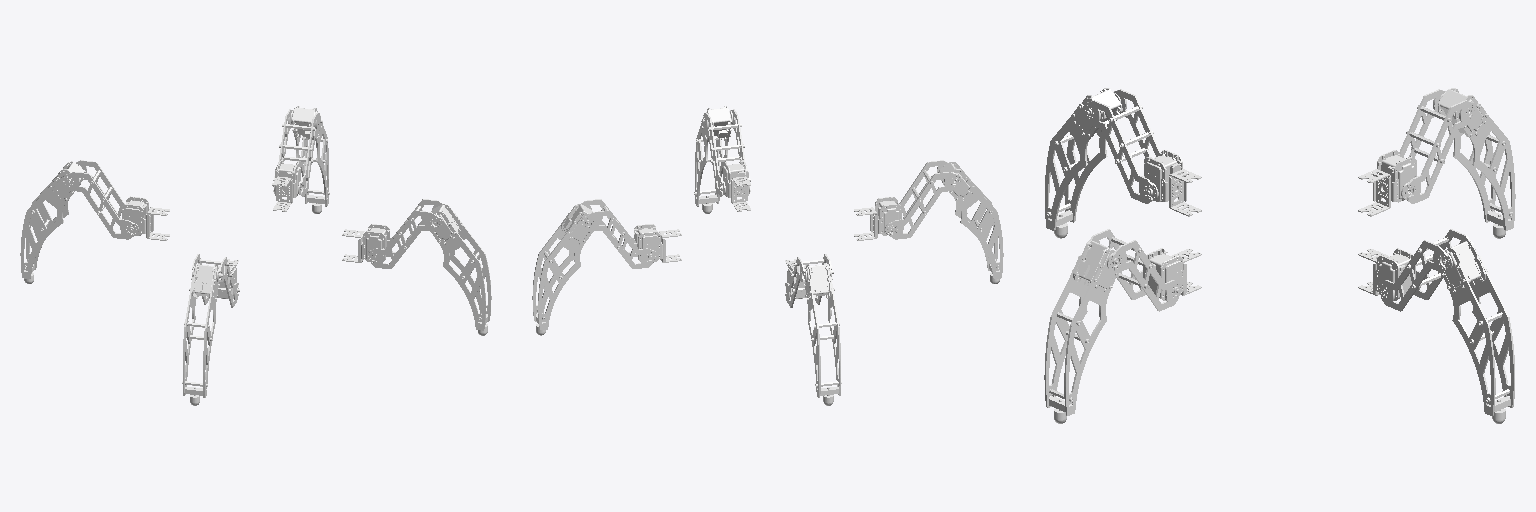
--- Facts derived from the render (not from the file) ---
Views: 3 orthographic renders of the robot side by side, from view 1: azimuth 30°, elevation 25°; view 2: azimuth 150°, elevation 25°; view 3: azimuth 270°, elevation 25°.
Model arachne with 19 links and 18 joints (12 revolute, 6 fixed), rooted at base, posed every joint at zero.
Visible links, largest first — view 1: leg4_tibia, leg2_tibia, leg3_tibia, leg2_femur, leg1_tibia, leg4_femur, leg2_shoulder, leg1_shoulder, leg4_shoulder, leg1_femur, leg3_femur; view 2: leg1_tibia, leg3_tibia, leg2_tibia, leg3_femur, leg4_tibia, leg1_femur, leg3_shoulder, leg4_shoulder, leg1_shoulder, leg4_femur, leg2_femur; view 3: leg4_tibia, leg1_tibia, leg2_tibia, leg3_tibia, leg2_femur, leg3_femur, leg1_femur, leg4_femur, leg3_shoulder, leg2_shoulder, leg4_shoulder, leg1_shoulder.
Link boxes in pixels (x1,y1,x2,y2): leg4_tibia: (431,204,491,335); leg2_tibia: (20,161,85,283); leg3_tibia: (182,264,222,405); leg2_femur: (65,160,133,239); leg1_tibia: (291,106,329,213); leg4_femur: (371,199,442,268); leg2_shoulder: (122,196,169,240); leg1_shoulder: (272,160,301,211); leg4_shoulder: (342,224,389,262); leg1_femur: (273,109,319,196); leg3_femur: (192,254,238,307); leg1_tibia: (532,204,592,335); leg3_tibia: (938,162,1003,283); leg2_tibia: (803,264,841,405); leg3_femur: (890,160,958,239); leg4_tibia: (694,106,732,213); leg1_femur: (581,199,652,268); leg3_shoulder: (854,197,901,240); leg4_shoulder: (719,160,750,211); leg1_shoulder: (634,224,681,262); leg4_femur: (704,109,750,196); leg2_femur: (785,254,831,307); leg4_tibia: (1044,240,1119,423); leg1_tibia: (1441,240,1514,423); leg2_tibia: (1438,88,1515,238); leg3_tibia: (1045,88,1122,238); leg2_femur: (1399,89,1473,203); leg3_femur: (1086,89,1160,203); leg1_femur: (1381,229,1473,311); leg4_femur: (1086,229,1178,311); leg3_shoulder: (1144,150,1201,216); leg2_shoulder: (1358,150,1416,216); leg4_shoulder: (1143,248,1201,300); leg1_shoulder: (1358,248,1415,300).
Bounding box of the posed robot: 0.5489 × 0.5489 × 0.2091 m (x, y, z).
12 mesh visuals loaded from 5 distinct referenced files (3 binary STL); not drawn: 2 (reference not matched to a file when rendering).

The robot description file, URDF, robot "arachne":
<?xml version="1.0"?>

<robot name="arachne">

  <!-- Color of materials -->
  <material name="yellow">
    <color rgba="1 1 0 1"/>
  </material>
  <material name="blue">
    <color rgba="0 0 1 1"/>
  </material>
  <material name="red">
    <color rgba="1 0 0 1"/>
  </material>
  <material name="white">
    <color rgba="1 1 1 1"/>
  </material>
   <material name="grey">
    <color rgba="0.4 0.4 0.4 1"/>
  </material>


  <!-- The base is declared -->
  <link name="base">
    <visual>
      <geometry>
        <mesh filename="package://arachne-simulation/urdf/meshes/Base.stl" scale="0.001 0.001 0.001"/>
      </geometry>
      <origin rpy="0 0 0" xyz="0 0 0.2"/>
      <material name="white"/>
    </visual>
    <collision>
      <origin rpy="0 0 0" xyz="0 0 0.2"/>
      <geometry>
        <box size="0.2 0.2 0.04575"/>
      </geometry>
    </collision>
    <gazebo reference="base">
      <material>Gazebo/White</material>
    </gazebo>
  </link>

  <!-- Fixed joint to add dummy inertia link -->
  <joint name="base_to_base_inertia" type="fixed">
      <parent link="base"/>
      <child link="base_inertia"/>
      <origin rpy="0 0 0" xyz="0 0 0"/>
  </joint>

  <!-- Dummy inertia link, because KDL cannot have inertia on the base link -->
  <link name="base_inertia">
      <inertial>
          <origin rpy="0 0 0" xyz="0 0 0"/>
          <mass value="1.8"/>
          <inertia ixx="0.217391101503" ixy="-0.00132873239126" ixz="-0.00228200226173" iyy="0.639432546734" iyz="-0.00138078263145" izz="0.62414077654"/>
      </inertial>
  </link>


  <!-- First motors are declared -->
  <joint name="leg1_motor1" type="revolute">
    <parent link="base"/>
    <child link="leg1_shoulder"/>
    <origin xyz="0.1 0.1 0.2"/>
    <axis xyz="0 0 1"/>
    <limit effort="300" velocity="0.1" lower="-1.5708" upper="1.5708"/>
    <dynamics damping="15" friction="3"/>
    <sensor name="force_torque" type="force_torque">
      <update_rate>30</update_rate>
    </sensor>
  </joint>

  <joint name="leg2_motor1" type="revolute">
    <parent link="base"/>
    <child link="leg2_shoulder"/>
    <origin xyz="-0.1 0.1 0.2"/>
    <axis xyz="0 0 1"/>
    <limit effort="300" velocity="0.1" lower="-1.5708" upper="1.5708"/>
    <dynamics damping="15" friction="3"/>
    <sensor name="force_torque" type="force_torque">
      <update_rate>30</update_rate>
    </sensor>
  </joint>

  <joint name="leg3_motor1" type="revolute">
    <parent link="base"/>
    <child link="leg3_shoulder"/>
    <origin xyz="-0.1 -0.1 0.2"/>
    <axis xyz="0 0 1"/>
    <limit effort="300" velocity="0.1" lower="-1.5708" upper="1.5708"/>
    <dynamics damping="15" friction="3"/>
    <sensor name="force_torque" type="force_torque">
      <update_rate>30</update_rate>
    </sensor>
  </joint>

  <joint name="leg4_motor1" type="revolute">
    <parent link="base"/>
    <child link="leg4_shoulder"/>
    <origin xyz="0.1 -0.1 0.2"/>
    <axis xyz="0 0 1"/>
    <limit effort="300" velocity="0.1" lower="-1.5708" upper="1.5708"/>
    <dynamics damping="15" friction="3"/>
    <sensor name="force_torque" type="force_torque">
      <update_rate>30</update_rate>
    </sensor>
  </joint>


  <!-- Shoulders are declared -->
  <link name="leg1_shoulder">
    <visual>
      <geometry>
        <mesh filename="package://arachne-simulation/urdf/meshes/Shoulder.stl" scale="0.001 0.001 0.001"/>
      </geometry>
      <origin rpy="0 0 -0.785398" xyz="0 0 0"/>
      <material name="white"/>
    </visual>
    <collision>
      <origin rpy="1.5708 0 -0.785398" xyz="0 0 0"/>
      <geometry>
        <cylinder length="0.225" radius="0.023"/>
      </geometry>
    </collision>
    <inertial>
      <origin rpy="0 0 0" xyz="0 0 -0.095924"/>
      <mass value="0.1118" />
      <inertia ixx="0.001947133" ixy="0" ixz="0" iyy="0.001408573" iyz="0" izz="0.000804606" />
    </inertial>
  </link>
  <gazebo reference="leg1_shoulder">
    <material>Gazebo/White</material>
  </gazebo>

  <link name="leg2_shoulder">
    <visual>
      <geometry>
        <mesh filename="package://arachne-simulation/urdf/meshes/Shoulder.stl" scale="0.001 0.001 0.001"/>
      </geometry>
      <origin rpy="0 0 0.785398" xyz="0 0 0"/>
      <material name="white"/>
    </visual>
    <collision>
      <origin rpy="1.5708 0 0.785398" xyz="0 0 0"/>
      <geometry>
        <cylinder length="0.225" radius="0.023"/>
      </geometry>
    </collision>
    <inertial>
      <origin rpy="0 0 0" xyz="0 0 -0.095924"/>
      <mass value="0.1118" />
      <inertia ixx="0.001947133" ixy="0" ixz="0" iyy="0.001408573" iyz="0" izz="0.000804606" />
    </inertial>
  </link>
  <gazebo reference="leg2_shoulder">
    <material>Gazebo/White</material>
  </gazebo>

  <link name="leg3_shoulder">
    <visual>
      <geometry>
        <mesh filename="package://arachne-simulation/urdf/meshes/Shoulder.stl" scale="0.001 0.001 0.001"/>
      </geometry>
      <origin rpy="0 0 2.35619" xyz="0 0 0"/>
      <material name="white"/>
    </visual>
    <collision>
      <origin rpy="1.5708 0 2.35619" xyz="0 0 0"/>
      <geometry>
        <cylinder length="0.225" radius="0.023"/>
      </geometry>
    </collision>
    <inertial>
      <origin rpy="0 0 0" xyz="0 0 -0.095924"/>
      <mass value="0.1118" />
      <inertia ixx="0.001947133" ixy="0" ixz="0" iyy="0.001408573" iyz="0" izz="0.000804606" />
    </inertial>
  </link>
  <gazebo reference="leg3_shoulder">
    <material>Gazebo/White</material>
  </gazebo>

  <link name="leg4_shoulder">
    <visual>
      <geometry>
        <mesh filename="package://arachne-simulation/urdf/meshes/Shoulder.stl" scale="0.001 0.001 0.001"/>
      </geometry>
      <origin rpy="0 0 -2.35619" xyz="0 0 0"/>
      <material name="white"/>
    </visual>
    <collision>
      <origin rpy="1.5708 0 -2.35619" xyz="0 0 0"/>
      <geometry>
        <cylinder length="0.225" radius="0.023"/>
      </geometry>
    </collision>
    <inertial>
      <origin rpy="0 0 0" xyz="0 0 -0.095924"/>
      <mass value="0.1118" />
      <inertia ixx="0.001947133" ixy="0" ixz="0" iyy="0.001408573" iyz="0" izz="0.000804606" />
    </inertial>
  </link>
  <gazebo reference="leg4_shoulder">
    <material>Gazebo/White</material>
  </gazebo>


  <!-- Second motors are declared -->
  <joint name="leg1_motor2" type="revolute">
    <parent link="leg1_shoulder"/>
    <child link="leg1_femur"/>
    <origin xyz="0.036062 0.036062 -0.00415" rpy="0 0 -0.785398"/>
    <axis xyz="1 0 0"/>
    <limit effort="300" velocity="0.1" lower="-1.5708" upper="1.5708"/>
    <dynamics damping="15" friction="3"/>
    <sensor name="force_torque" type="force_torque">
      <update_rate>30</update_rate>
    </sensor>
  </joint>

  <joint name="leg2_motor2" type="revolute">
    <parent link="leg2_shoulder"/>
    <child link="leg2_femur"/>
    <origin xyz="-0.036062 0.036062 -0.00415" rpy="0 0 0.785398"/>
    <axis xyz="1 0 0"/>
    <limit effort="300" velocity="0.1" lower="-1.5708" upper="1.5708"/>
    <dynamics damping="15" friction="3"/>
    <sensor name="force_torque" type="force_torque">
      <update_rate>30</update_rate>
    </sensor>
  </joint>

  <joint name="leg3_motor2" type="revolute">
    <parent link="leg3_shoulder"/>
    <child link="leg3_femur"/>
    <origin xyz="-0.036062 -0.036062 -0.00415" rpy="0 0 2.35619"/>
    <axis xyz="1 0 0"/>
    <limit effort="300" velocity="0.1" lower="-1.5708" upper="1.5708"/>
    <dynamics damping="15" friction="3"/>
    <sensor name="force_torque" type="force_torque">
      <update_rate>30</update_rate>
    </sensor>
  </joint>

  <joint name="leg4_motor2" type="revolute">
    <parent link="leg4_shoulder"/>
    <child link="leg4_femur"/>
    <origin xyz="0.036062 -0.036062 -0.00415" rpy="0 0 -2.35619"/>
    <axis xyz="1 0 0"/>
    <limit effort="300" velocity="0.1" lower="-1.5708" upper="1.5708"/>
    <dynamics damping="15" friction="3"/>
    <sensor name="force_torque" type="force_torque">
      <update_rate>30</update_rate>
    </sensor>
  </joint>


  <!-- Femurs are declared -->
  <link name="leg1_femur">
    <visual>
      <geometry>
        <mesh filename="package://arachne-simulation/urdf/meshes/Femur.stl" scale="0.001 0.001 0.001"/>
      </geometry>
      <origin rpy="0 0 0" xyz="0 0 0"/>
      <material name="white"/>
    </visual>
    <collision>
      <origin rpy="1.5708 0 0" xyz="0 0 0"/>
      <geometry>
        <cylinder length="0.225" radius="0.023"/>
      </geometry>
    </collision>
    <inertial>
      <origin rpy="0 0 0" xyz="0 0 -0.095924"/>
      <mass value="0.1118" />
      <inertia ixx="0.001947133" ixy="0" ixz="0" iyy="0.001408573" iyz="0" izz="0.000804606" />
    </inertial>
  </link>
  <gazebo reference="leg1_femur">
    <material>Gazebo/White</material>
  </gazebo>

  <link name="leg2_femur">
    <visual>
      <geometry>
        <mesh filename="package://arachne-simulation/urdf/meshes/Femur.stl" scale="0.001 0.001 0.001"/>
      </geometry>
      <origin rpy="0 0 0" xyz="0 0 0"/>
      <material name="white"/>
    </visual>
    <collision>
      <origin rpy="1.5708 0 0" xyz="0 0 0"/>
      <geometry>
        <cylinder length="0.225" radius="0.023"/>
      </geometry>
    </collision>
    <inertial>
      <origin rpy="0 0 0" xyz="0 0 -0.095924"/>
      <mass value="0.1118" />
      <inertia ixx="0.001947133" ixy="0" ixz="0" iyy="0.001408573" iyz="0" izz="0.000804606" />
    </inertial>
  </link>
  <gazebo reference="leg2_femur">
    <material>Gazebo/White</material>
  </gazebo>

  <link name="leg3_femur">
    <visual>
      <geometry>
        <mesh filename="package://arachne-simulation/urdf/meshes/Femur.stl" scale="0.001 0.001 0.001"/>
      </geometry>
      <origin rpy="0 0 0" xyz="0 0 0"/>
      <material name="white"/>
    </visual>
    <collision>
      <origin rpy="1.5708 0 0" xyz="0 0 0"/>
      <geometry>
        <cylinder length="0.225" radius="0.023"/>
      </geometry>
    </collision>
    <inertial>
      <origin rpy="0 0 0" xyz="0 0 -0.095924"/>
      <mass value="0.1118" />
      <inertia ixx="0.001947133" ixy="0" ixz="0" iyy="0.001408573" iyz="0" izz="0.000804606" />
    </inertial>
  </link>
  <gazebo reference="leg3_femur">
    <material>Gazebo/White</material>
  </gazebo>

  <link name="leg4_femur">
    <visual>
      <geometry>
        <mesh filename="package://arachne-simulation/urdf/meshes/Femur.stl" scale="0.001 0.001 0.001"/>
      </geometry>
      <origin rpy="0 0 0" xyz="0 0 0"/>
      <material name="white"/>
    </visual>
    <collision>
      <origin rpy="1.5708 0 0" xyz="0 0 0"/>
      <geometry>
        <cylinder length="0.225" radius="0.023"/>
      </geometry>
    </collision>
    <inertial>
      <origin rpy="0 0 0" xyz="0 0 -0.095924"/>
      <mass value="0.1118" />
      <inertia ixx="0.001947133" ixy="0" ixz="0" iyy="0.001408573" iyz="0" izz="0.000804606" />
    </inertial>
  </link>
  <gazebo reference="leg4_femur">
    <material>Gazebo/White</material>
  </gazebo>


  <!-- Third motors are declared -->
  <joint name="leg1_motor3" type="revolute">
    <parent link="leg1_femur"/>
    <child link="leg1_tibia"/>
    <origin xyz="0 0.1 0.07"/>
    <axis xyz="1 0 0"/>
    <limit effort="300" velocity="0.1" lower="-0.785398" upper="2.35619"/>
    <dynamics damping="15" friction="3"/>
    <sensor name="force_torque" type="force_torque">
      <update_rate>30</update_rate>
    </sensor>
  </joint>

  <joint name="leg2_motor3" type="revolute">
    <parent link="leg2_femur"/>
    <child link="leg2_tibia"/>
    <origin xyz="0 0.1 0.07"/>
    <axis xyz="1 0 0"/>
    <limit effort="300" velocity="0.1" lower="-0.785398" upper="2.35619"/>
    <dynamics damping="15" friction="3"/>
    <sensor name="force_torque" type="force_torque">
      <update_rate>30</update_rate>
    </sensor>
  </joint>

  <joint name="leg3_motor3" type="revolute">
    <parent link="leg3_femur"/>
    <child link="leg3_tibia"/>
    <origin xyz="0 0.1 0.07"/>
    <axis xyz="1 0 0"/>
    <limit effort="300" velocity="0.1" lower="-0.785398" upper="2.35619"/>
    <dynamics damping="15" friction="3"/>
    <sensor name="force_torque" type="force_torque">
      <update_rate>30</update_rate>
    </sensor>
  </joint>

  <joint name="leg4_motor3" type="revolute">
    <parent link="leg4_femur"/>
    <child link="leg4_tibia"/>
    <origin xyz="0 0.1 0.07"/>
    <axis xyz="1 0 0"/>
    <limit effort="300" velocity="0.1" lower="-0.785398" upper="2.35619"/>
    <dynamics damping="15" friction="3"/>
    <sensor name="force_torque" type="force_torque">
      <update_rate>30</update_rate>
    </sensor>
  </joint>


  <!-- Tibias are declared -->
  <link name="leg1_tibia">
    <visual>
      <geometry>
        <mesh filename="package://arachne-simulation/urdf/meshes/Tibia.stl" scale="0.001 0.001 0.001"/>
      </geometry>
      <origin rpy="0 0 0" xyz="0 0 0"/>
      <material name="white"/>
    </visual>
    <collision>
      <origin rpy="0.610865 0 0" xyz="0 0 0"/>
      <geometry>
        <cylinder length="0.2" radius="0.02"/>
      </geometry>
    </collision>
    <inertial>
      <origin rpy="0 0 0" xyz="0 0 -0.095924"/>
      <mass value="0.1118" />
      <inertia ixx="0.001947133" ixy="0" ixz="0" iyy="0.001408573" iyz="0" izz="0.000804606" />
    </inertial>
  </link>
  <gazebo reference="leg1_tibia">
    <material>Gazebo/White</material>
  </gazebo>

  <link name="leg2_tibia">
    <visual>
      <geometry>
        <mesh filename="package://arachne-simulation/urdf/meshes/Tibia.stl" scale="0.001 0.001 0.001"/>
      </geometry>
      <origin rpy="0 0 0" xyz="0 0 0"/>
      <material name="white"/>
    </visual>
    <collision>
      <origin rpy="0.610865 0 0" xyz="0 0 0"/>
      <geometry>
        <cylinder length="0.2" radius="0.02"/>
      </geometry>
    </collision>
    <inertial>
      <origin rpy="0 0 0" xyz="0 0 -0.095924"/>
      <mass value="0.1118" />
      <inertia ixx="0.001947133" ixy="0" ixz="0" iyy="0.001408573" iyz="0" izz="0.000804606" />
    </inertial>
  </link>
  <gazebo reference="leg2_tibia">
    <material>Gazebo/White</material>
  </gazebo>

  <link name="leg3_tibia">
    <visual>
      <geometry>
        <mesh filename="package://arachne-simulation/urdf/meshes/Tibia.stl" scale="0.001 0.001 0.001"/>
      </geometry>
      <origin rpy="0 0 0" xyz="0 0 0"/>
      <material name="white"/>
    </visual>
    <collision>
      <origin rpy="0.610865 0 0" xyz="0 0 0"/>
      <geometry>
        <cylinder length="0.2" radius="0.02"/>
      </geometry>
    </collision>
    <inertial>
      <origin rpy="0 0 0" xyz="0 0 -0.095924"/>
      <mass value="0.1118" />
      <inertia ixx="0.001947133" ixy="0" ixz="0" iyy="0.001408573" iyz="0" izz="0.000804606" />
    </inertial>
  </link>
  <gazebo reference="leg3_tibia">
    <material>Gazebo/White</material>
  </gazebo>

  <link name="leg4_tibia">
    <visual>
      <geometry>
        <mesh filename="package://arachne-simulation/urdf/meshes/Tibia.stl" scale="0.001 0.001 0.001"/>
      </geometry>
      <origin rpy="0 0 0" xyz="0 0 0"/>
      <material name="white"/>
    </visual>
    <collision>
      <origin rpy="0.610865 0 0" xyz="0 0 0"/>
      <geometry>
        <cylinder length="0.2" radius="0.02"/>
      </geometry>
    </collision>
    <inertial>
      <origin rpy="0 0 0" xyz="0 0 -0.095924"/>
      <mass value="0.1118" />
      <inertia ixx="0.001947133" ixy="0" ixz="0" iyy="0.001408573" iyz="0" izz="0.000804606" />
    </inertial>
  </link>
  <gazebo reference="leg4_tibia">
    <material>Gazebo/White</material>
  </gazebo>


  <!-- End-effector joints -->
  <joint name="leg1_fix" type="fixed">
    <parent link="leg1_tibia"/>
    <child link="leg1_end"/>
    <origin xyz="0 0.068869 -0.184069"/>
    <axis xyz="0 0 1"/>
    <limit effort="300" velocity="0.1" lower="-1.57" upper="1.57"/>
  </joint>

  <joint name="leg2_fix" type="fixed">
    <parent link="leg2_tibia"/>
    <child link="leg2_end"/>
    <origin xyz="0 0.068869 -0.184069"/>
    <axis xyz="0 0 1"/>
    <limit effort="300" velocity="0.1" lower="-1.57" upper="1.57"/>
  </joint>

  <joint name="leg3_fix" type="fixed">
    <parent link="leg3_tibia"/>
    <child link="leg3_end"/>
    <origin xyz="0 0.068869 -0.184069"/>
    <axis xyz="0 0 1"/>
    <limit effort="300" velocity="0.1" lower="-1.57" upper="1.57"/>
  </joint>

  <joint name="leg4_fix" type="fixed">
    <parent link="leg4_tibia"/>
    <child link="leg4_end"/>
    <origin xyz="0 0.068869 -0.184069"/>
    <axis xyz="0 0 1"/>
    <limit effort="300" velocity="0.1" lower="-1.57" upper="1.57"/>
  </joint>


  <!-- End-effectors are declared -->
  <link name="leg1_end">
    <visual>
      <geometry>
        <sphere radius="0.0075"/>
      </geometry>
      <origin rpy="0 0 0" xyz="0 0 0"/>
      <material name="grey"/>
    </visual>
    <collision>
      <origin rpy="0 0 0" xyz="0 0 0"/>
      <geometry>
        <sphere radius="0.0075"/>
      </geometry>
      <surface>
        <friction>
          <ode>
            <mu>0.8</mu>
            <mu2>0.8</mu2>
          </ode>
        </friction>
      </surface>
    </collision>
    <inertial>
      <origin rpy="0 0 0" xyz="0 0 0"/>
      <mass value="0.004" />
      <inertia ixx="1.7067e-7" ixy="0" ixz="0" iyy="1.7067e-7" iyz="0" izz="1.7067e-7" />
    </inertial>
  </link>
  <gazebo reference="leg1_end">
    <material>Gazebo/White</material>
  </gazebo>

  <link name="leg2_end">
    <visual>
      <geometry>
        <sphere radius="0.0075"/>
      </geometry>
      <origin rpy="0 0 0" xyz="0 0 0"/>
      <material name="grey"/>
    </visual>
    <collision>
      <origin rpy="0 0 0" xyz="0 0 0"/>
      <geometry>
        <sphere radius="0.0075"/>
      </geometry>
      <surface>
        <friction>
          <ode>
            <mu>0.8</mu>
            <mu2>0.8</mu2>
          </ode>
        </friction>
      </surface>
    </collision>
    <inertial>
      <origin rpy="0 0 0" xyz="0 0 0"/>
      <mass value="0.004" />
      <inertia ixx="1.7067e-7" ixy="0" ixz="0" iyy="1.7067e-7" iyz="0" izz="1.7067e-7" />
    </inertial>
  </link>
  <gazebo reference="leg2_end">
    <material>Gazebo/White</material>
  </gazebo>

  <link name="leg3_end">
    <visual>
      <geometry>
        <sphere radius="0.0075"/>
      </geometry>
      <origin rpy="0 0 0" xyz="0 0 0"/>
      <material name="grey"/>
    </visual>
    <collision>
      <origin rpy="0 0 0" xyz="0 0 0"/>
      <geometry>
        <sphere radius="0.0075"/>
      </geometry>
      <surface>
        <friction>
          <ode>
            <mu>0.8</mu>
            <mu2>0.8</mu2>
          </ode>
        </friction>
      </surface>
    </collision>
    <inertial>
      <origin rpy="0 0 0" xyz="0 0 0"/>
      <mass value="0.004" />
      <inertia ixx="1.7067e-7" ixy="0" ixz="0" iyy="1.7067e-7" iyz="0" izz="1.7067e-7" />
    </inertial>
  </link>
  <gazebo reference="leg3_end">
    <material>Gazebo/White</material>
  </gazebo>

  <link name="leg4_end">
    <visual>
      <geometry>
        <sphere radius="0.0075"/>
      </geometry>
      <origin rpy="0 0 0" xyz="0 0 0"/>
      <material name="grey"/>
    </visual>
    <collision>
      <origin rpy="0 0 0" xyz="0 0 0"/>
      <geometry>
        <sphere radius="0.0075"/>
      </geometry>
      <surface>
        <friction>
          <ode>
            <mu>0.8</mu>
            <mu2>0.8</mu2>
          </ode>
        </friction>
      </surface>
    </collision>
    <inertial>
      <origin rpy="0 0 0" xyz="0 0 0"/>
      <mass value="0.004" />
      <inertia ixx="1.7067e-7" ixy="0" ixz="0" iyy="1.7067e-7" iyz="0" izz="1.7067e-7" />
    </inertial>
  </link>
  <gazebo reference="leg4_end">
    <material>Gazebo/White</material>
  </gazebo>


  <!-- Camera -->
  <link name="camera_link">
    <collision>
      <origin xyz="0 0 0" rpy="0 0 0"/>
      <geometry>
        <box size="0.005 0.04 0.04"/>
      </geometry>
    </collision>

    <visual>
      <origin xyz="0 0 0" rpy="1.5708 0 1.5708"/>
      <geometry>
        <mesh filename="package://arachne-simulation/urdf/meshes/Camera.stl" scale="0.001 0.001 0.001"/>
      </geometry>
      <material name="green"/>
    </visual>

    <inertial>
      <mass value="0.01" />
      <origin xyz="0 0 0" rpy="0 0 0"/>
      <box_inertia m="0.01" x="0.005" y="0.04" z="0.04" />
      <inertia ixx="1e-6" ixy="0" ixz="0" iyy="1e-6" iyz="0" izz="1e-6" />
    </inertial>
  </link>
  <gazebo reference="camera_link">
    <material>Gazebo/Green</material>
  </gazebo>

  <joint name="camera_joint" type="fixed">
    <axis xyz="0 1 0" />
    <origin xyz=".075 0 0.228" rpy="0 0 0"/>
    <parent link="base"/>
    <child link="camera_link"/>
  </joint>

  <gazebo reference="camera_link">
    <sensor type="camera" name="camera1">
      <update_rate>30.0</update_rate>
      <camera name="head">
        <horizontal_fov>1.3962634</horizontal_fov>
        <image>
          <width>800</width>
          <height>800</height>
          <format>R8G8B8</format>
        </image>
        <clip>
          <near>0.02</near>
          <far>300</far>
        </clip>
        <noise>
          <type>gaussian</type>
          <!-- Noise is sampled independently per pixel on each frame.  
               That pixel's noise value is added to each of its color
               channels, which at that point lie in the range [0,1]. -->
          <mean>0.0</mean>
          <stddev>0.007</stddev>
        </noise>
      </camera>
      <plugin name="camera_controller" filename="libgazebo_ros_camera.so">
        <alwaysOn>true</alwaysOn>
        <updateRate>0.0</updateRate>
        <cameraName>charly/camera1</cameraName>
        <imageTopicName>image_raw</imageTopicName>
        <cameraInfoTopicName>camera_info</cameraInfoTopicName>
        <frameName>camera_link</frameName>
        <hackBaseline>0.07</hackBaseline>
        <distortionK1>0.0</distortionK1>
        <distortionK2>0.0</distortionK2>
        <distortionK3>0.0</distortionK3>
        <distortionT1>0.0</distortionT1>
        <distortionT2>0.0</distortionT2>
      </plugin>
    </sensor>
  </gazebo>

  <!-- Transmissions -->
  <transmission name="tran1">
    <type>transmission_interface/SimpleTransmission</type>
    <joint name="leg1_motor1">
      <hardwareInterface>hardware_interface/EffortJointInterface</hardwareInterface>
    </joint>
    <actuator name="leg1_servo1">
      <hardwareInterface>hardware_interface/EffortJointInterface</hardwareInterface>
      <mechanicalReduction>1</mechanicalReduction>
    </actuator>
  </transmission>

  <transmission name="tran2">
    <type>transmission_interface/SimpleTransmission</type>
    <joint name="leg1_motor2">
      <hardwareInterface>hardware_interface/EffortJointInterface</hardwareInterface>
    </joint>
    <actuator name="leg1_servo2">
      <hardwareInterface>hardware_interface/EffortJointInterface</hardwareInterface>
      <mechanicalReduction>1</mechanicalReduction>
    </actuator>
  </transmission>

  <transmission name="tran3">
    <type>transmission_interface/SimpleTransmission</type>
    <joint name="leg1_motor3">
      <hardwareInterface>hardware_interface/EffortJointInterface</hardwareInterface>
    </joint>
    <actuator name="leg1_servo3">
      <hardwareInterface>hardware_interface/EffortJointInterface</hardwareInterface>
      <mechanicalReduction>1</mechanicalReduction>
    </actuator>
  </transmission>

  <transmission name="tran4">
    <type>transmission_interface/SimpleTransmission</type>
    <joint name="leg2_motor1">
      <hardwareInterface>hardware_interface/EffortJointInterface</hardwareInterface>
    </joint>
    <actuator name="leg2_servo1">
      <hardwareInterface>hardware_interface/EffortJointInterface</hardwareInterface>
      <mechanicalReduction>1</mechanicalReduction>
    </actuator>
  </transmission>

  <transmission name="tran5">
    <type>transmission_interface/SimpleTransmission</type>
    <joint name="leg2_motor2">
      <hardwareInterface>hardware_interface/EffortJointInterface</hardwareInterface>
    </joint>
    <actuator name="leg2_servo2">
      <hardwareInterface>hardware_interface/EffortJointInterface</hardwareInterface>
      <mechanicalReduction>1</mechanicalReduction>
    </actuator>
  </transmission>

  <transmission name="tran6">
    <type>transmission_interface/SimpleTransmission</type>
    <joint name="leg2_motor3">
      <hardwareInterface>hardware_interface/EffortJointInterface</hardwareInterface>
    </joint>
    <actuator name="leg2_servo3">
      <hardwareInterface>hardware_interface/EffortJointInterface</hardwareInterface>
      <mechanicalReduction>1</mechanicalReduction>
    </actuator>
  </transmission>

  <transmission name="tran7">
    <type>transmission_interface/SimpleTransmission</type>
    <joint name="leg3_motor1">
      <hardwareInterface>hardware_interface/EffortJointInterface</hardwareInterface>
    </joint>
    <actuator name="leg3_servo1">
      <hardwareInterface>hardware_interface/EffortJointInterface</hardwareInterface>
      <mechanicalReduction>1</mechanicalReduction>
    </actuator>
  </transmission>

  <transmission name="tran8">
    <type>transmission_interface/SimpleTransmission</type>
    <joint name="leg3_motor2">
      <hardwareInterface>hardware_interface/EffortJointInterface</hardwareInterface>
    </joint>
    <actuator name="leg3_servo2">
      <hardwareInterface>hardware_interface/EffortJointInterface</hardwareInterface>
      <mechanicalReduction>1</mechanicalReduction>
    </actuator>
  </transmission>

  <transmission name="tran9">
    <type>transmission_interface/SimpleTransmission</type>
    <joint name="leg3_motor3">
      <hardwareInterface>hardware_interface/EffortJointInterface</hardwareInterface>
    </joint>
    <actuator name="leg3_servo3">
      <hardwareInterface>hardware_interface/EffortJointInterface</hardwareInterface>
      <mechanicalReduction>1</mechanicalReduction>
    </actuator>
  </transmission>

  <transmission name="tran10">
    <type>transmission_interface/SimpleTransmission</type>
    <joint name="leg4_motor1">
      <hardwareInterface>hardware_interface/EffortJointInterface</hardwareInterface>
    </joint>
    <actuator name="leg4_servo1">
      <hardwareInterface>hardware_interface/EffortJointInterface</hardwareInterface>
      <mechanicalReduction>1</mechanicalReduction>
    </actuator>
  </transmission>

  <transmission name="tran11">
    <type>transmission_interface/SimpleTransmission</type>
    <joint name="leg4_motor2">
      <hardwareInterface>hardware_interface/EffortJointInterface</hardwareInterface>
    </joint>
    <actuator name="leg4_servo2">
      <hardwareInterface>hardware_interface/EffortJointInterface</hardwareInterface>
      <mechanicalReduction>1</mechanicalReduction>
    </actuator>
  </transmission>

  <transmission name="tran12">
    <type>transmission_interface/SimpleTransmission</type>
    <joint name="leg4_motor3">
      <hardwareInterface>hardware_interface/EffortJointInterface</hardwareInterface>
    </joint>
    <actuator name="leg4_servo3">
      <hardwareInterface>hardware_interface/EffortJointInterface</hardwareInterface>
      <mechanicalReduction>1</mechanicalReduction>
    </actuator>
  </transmission>
  

   <!-- Plugin: ros_control -->
   <gazebo>
     <plugin name="gazebo_ros_control" filename="libgazebo_ros_control.so">
       <robotNamespace>/robot</robotNamespace>
       <legacyModeNS>true</legacyModeNS>
     </plugin>
   </gazebo>

</robot>
